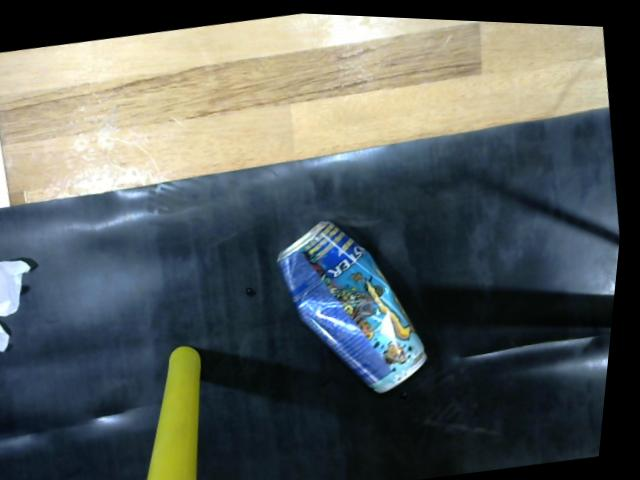can: (275, 212, 446, 410)
